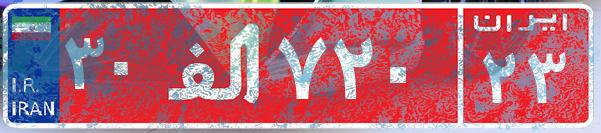0: (385, 28, 445, 110), (110, 28, 158, 105)
2: (330, 28, 385, 110), (475, 38, 525, 113)
3: (57, 26, 110, 107), (525, 38, 570, 115)
7: (273, 28, 330, 110)
الف: (158, 15, 273, 115)
